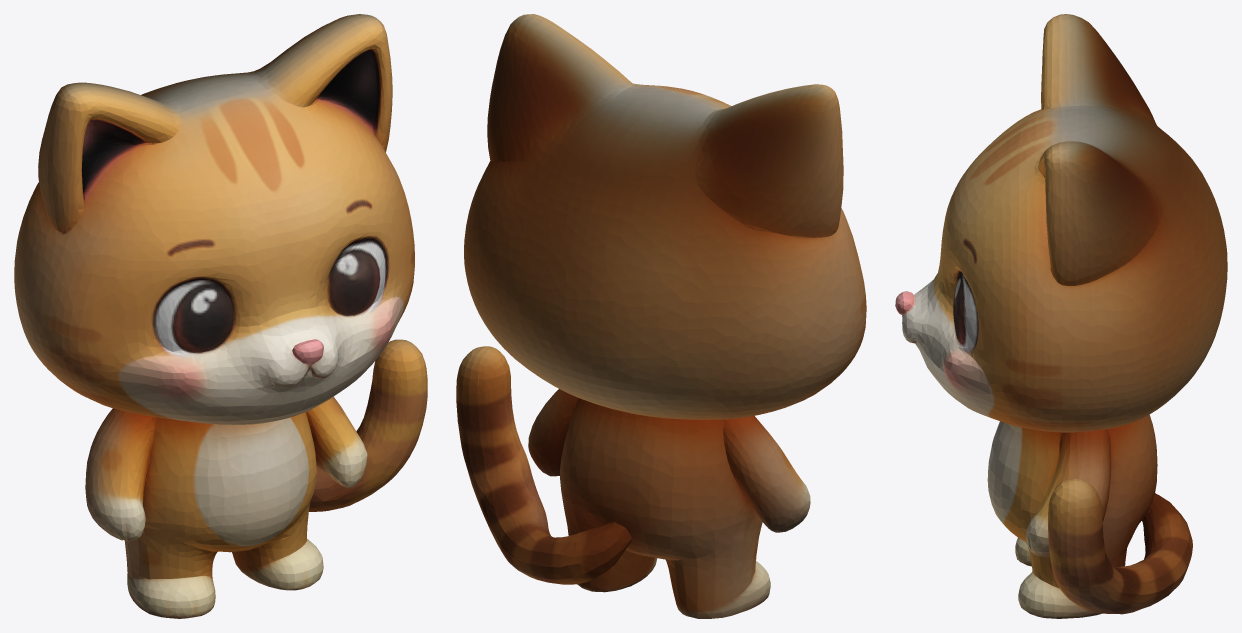
File: chat.glb
3 renders of one model, left to right at view 1: azimuth 30°, elevation 25°; view 2: azimuth 150°, elevation 25°; view 3: azimuth 270°, elevation 25°, orthographic. The views are drawn at different scales.
Visible parts, largest first — view 1: world; view 2: world; view 3: world.
Part boxes in pixels (box(x1,y1,x2,y2)): world: box(14, 14, 427, 618); world: box(456, 14, 866, 618); world: box(895, 14, 1227, 618).
Size of the model in its own units: 0.7653 by 0.9999 by 0.606.
Materials: 1 (1 with a texture image).
